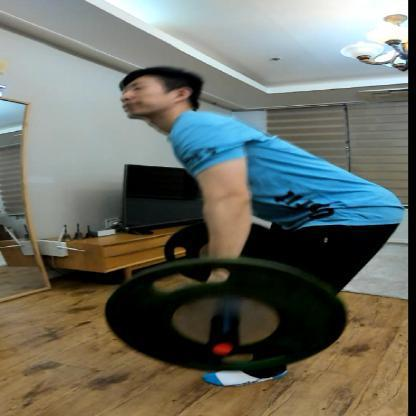barbell: (101, 216, 350, 372)
